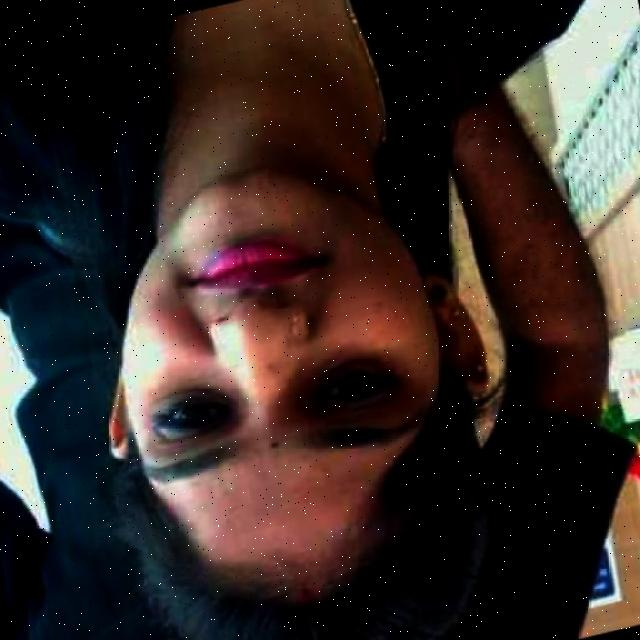puffy_eyes: (150, 384, 226, 411), (319, 353, 380, 376)
